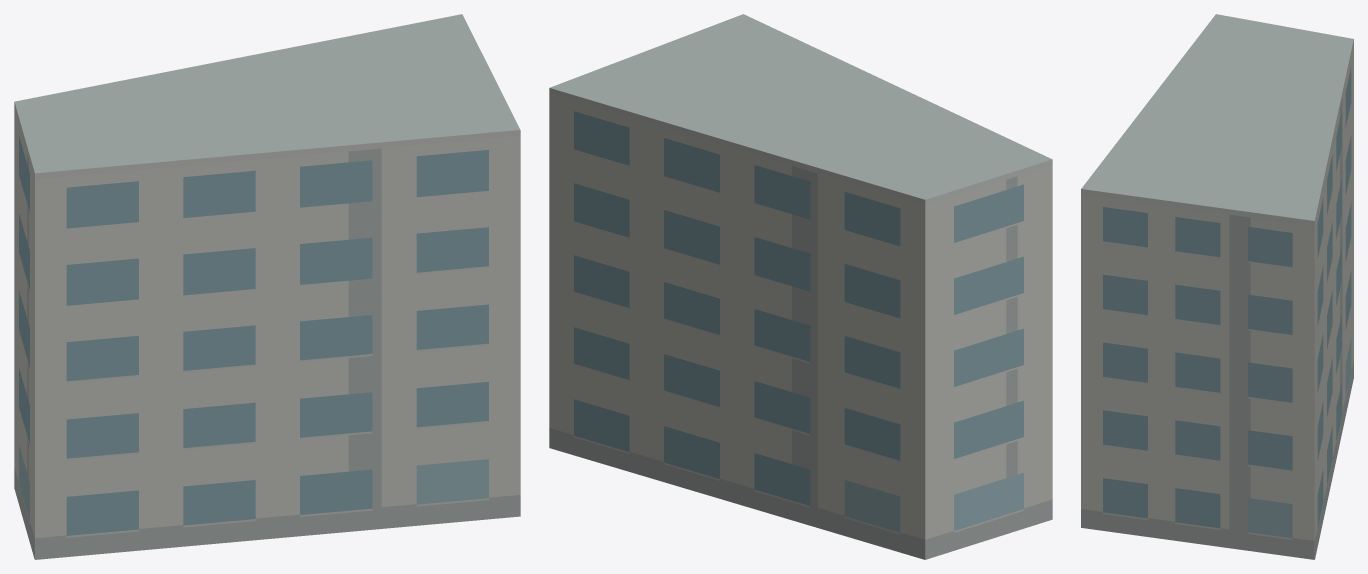
The model's file is residential-2eb90b03-68cb-4191-a4e9-aa894201f5f1.glb.
The picture shows the model from 3 angles, left to right: view 1: azimuth 30°, elevation 25°; view 2: azimuth 150°, elevation 25°; view 3: azimuth 270°, elevation 25°; orthographic projection. The views are drawn at different scales.
Visible parts, largest first — view 1: residential-2eb90b03-68cb-4191-a4e9-aa894201f5f1.tmp; view 2: residential-2eb90b03-68cb-4191-a4e9-aa894201f5f1.tmp; view 3: residential-2eb90b03-68cb-4191-a4e9-aa894201f5f1.tmp.
Part boxes in pixels (x1,y1,x2,y2): residential-2eb90b03-68cb-4191-a4e9-aa894201f5f1.tmp: (14,14,520,559); residential-2eb90b03-68cb-4191-a4e9-aa894201f5f1.tmp: (549,14,1052,559); residential-2eb90b03-68cb-4191-a4e9-aa894201f5f1.tmp: (1081,14,1353,559).
Size of the model in its own units: 19.99 by 15.25 by 11.13.
